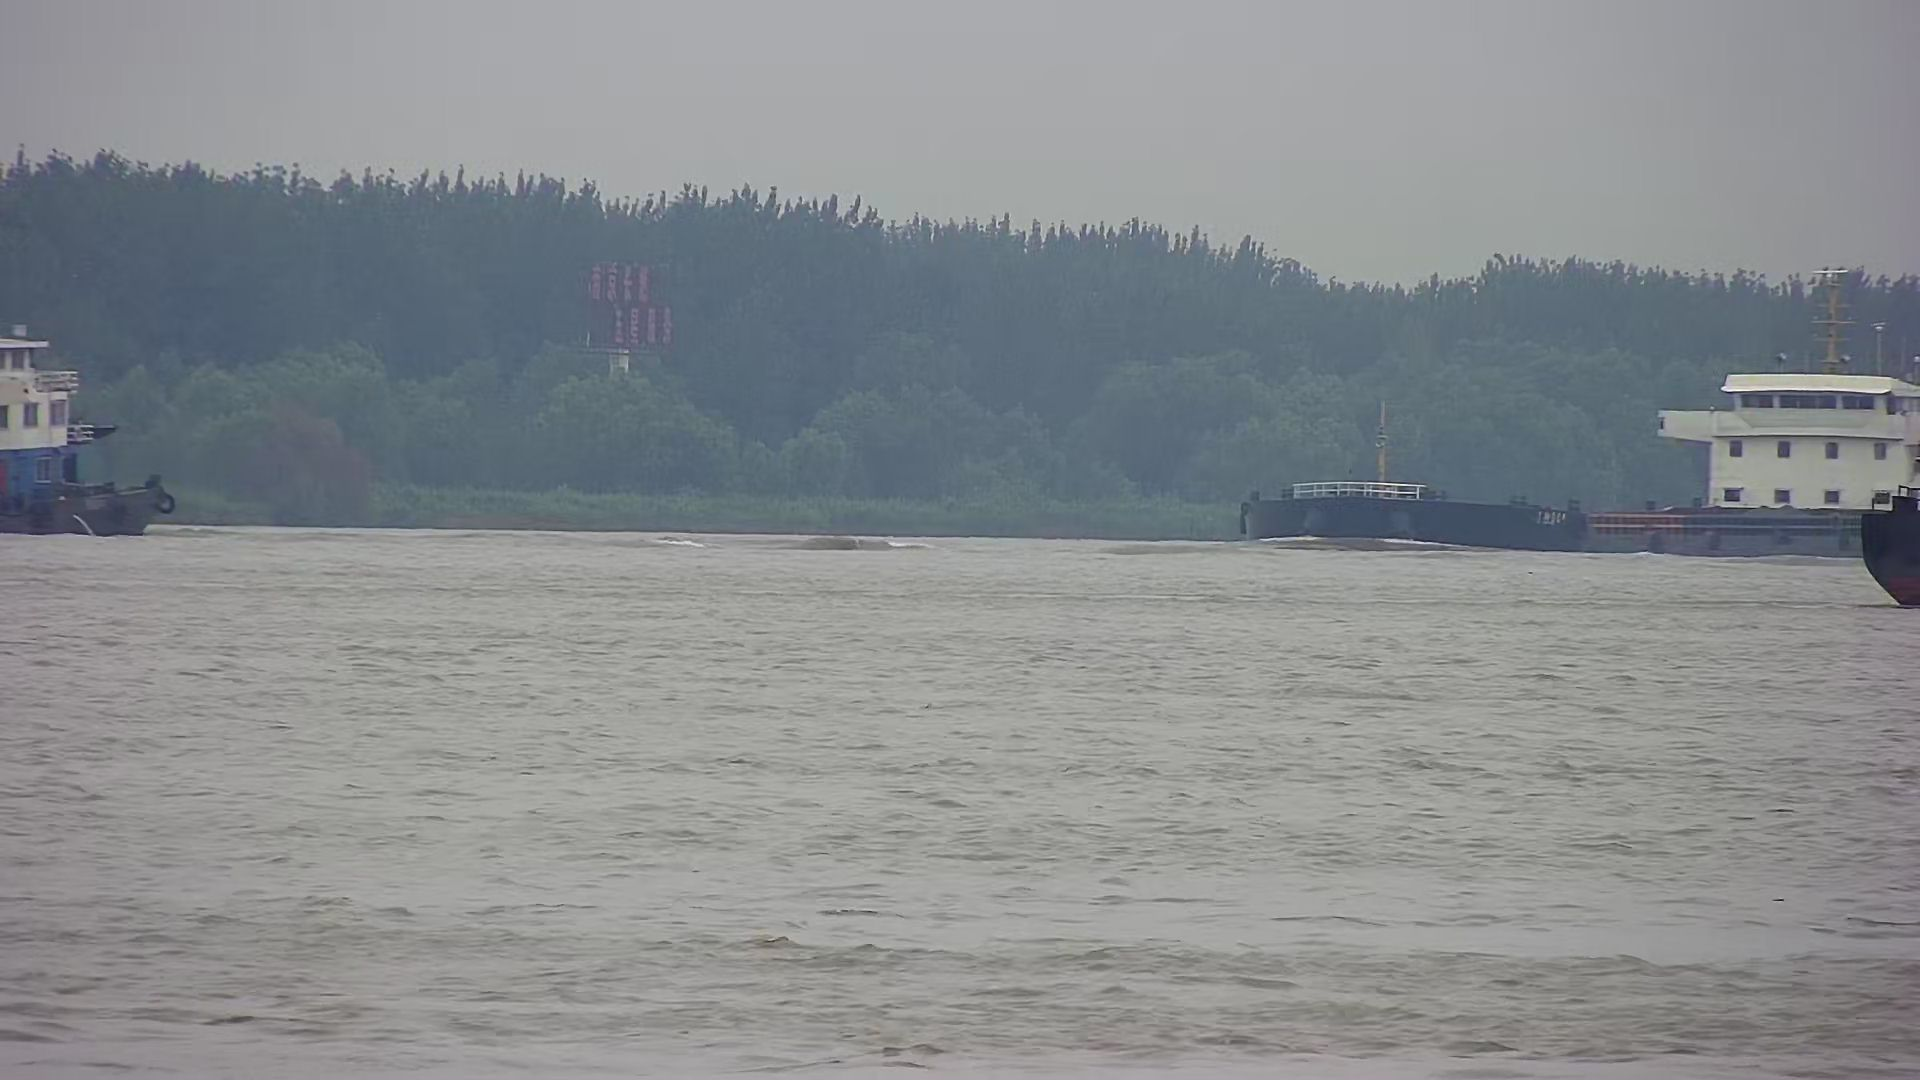ship: (1233, 261, 1920, 564), (1, 314, 174, 545), (1862, 477, 1920, 608)
